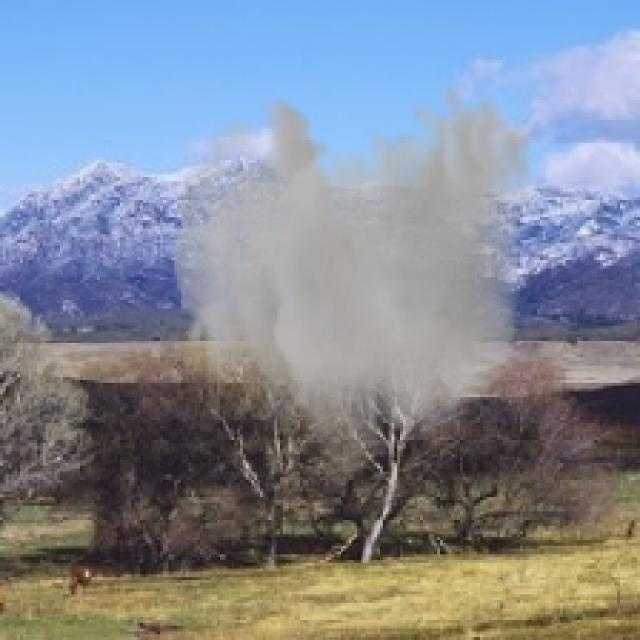smoke: (175, 86, 534, 488)
